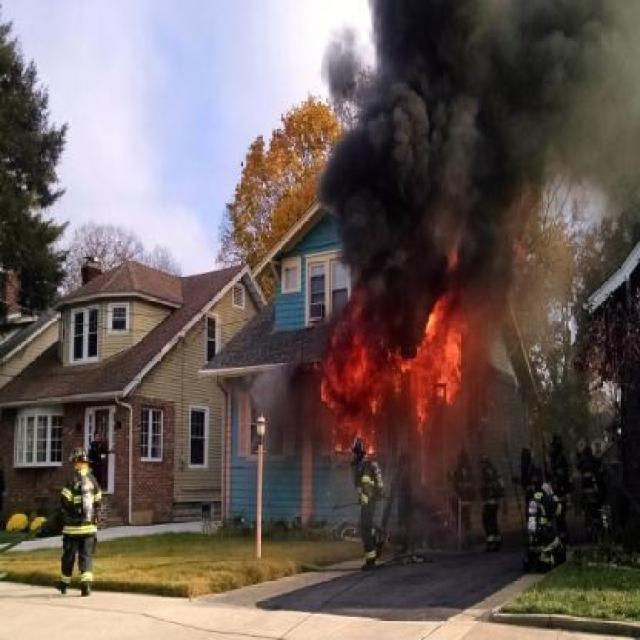Fire: (316, 292, 484, 429)
Smoke: (326, 7, 579, 284)
